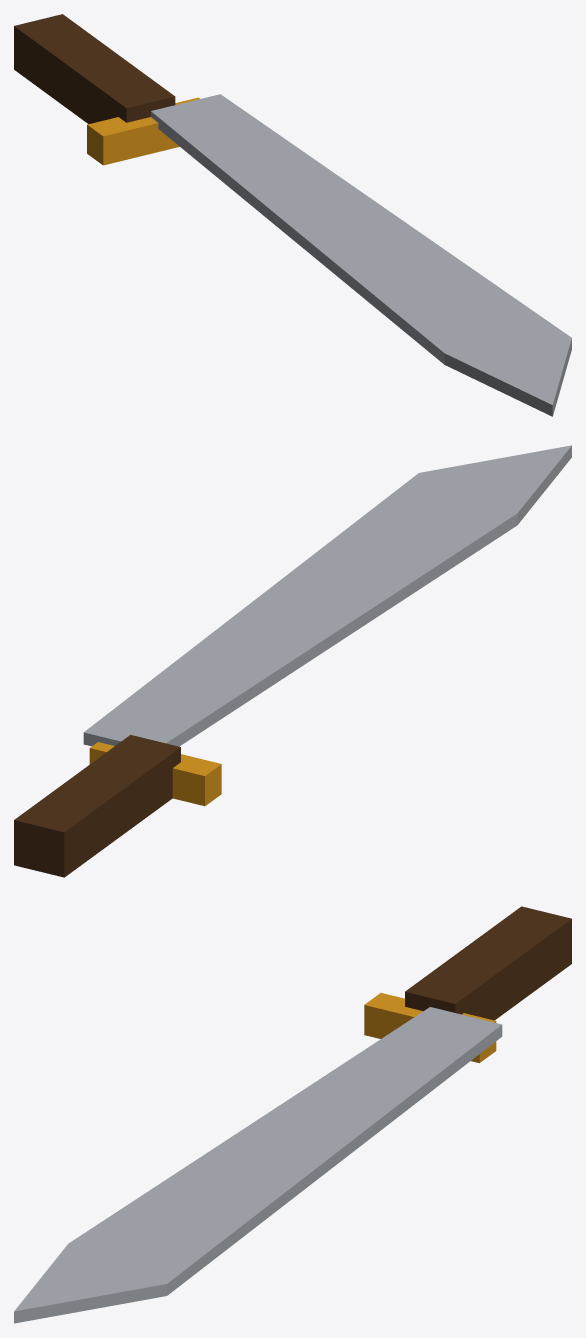
The model's file is tide_machete.glb.
3 views of the same model, one above another, from view 1: azimuth 30°, elevation 25°; view 2: azimuth 150°, elevation 25°; view 3: azimuth 330°, elevation 25° (orthographic). The views are drawn at different scales.
Visible parts, largest first — view 1: model; view 2: model; view 3: model.
Part boxes in pixels (x1,y1,x2,y2): model: [14, 14, 571, 416]; model: [14, 445, 571, 877]; model: [14, 906, 571, 1323].
Bounding box in the file's own units: 0.1 × 0.03 × 0.64.
